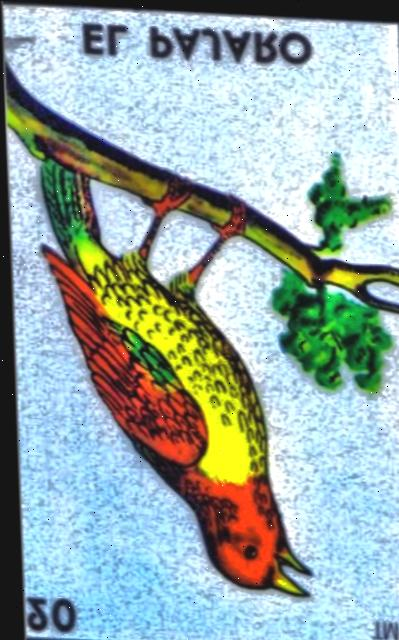El Pajaro: (3, 3, 399, 640)
